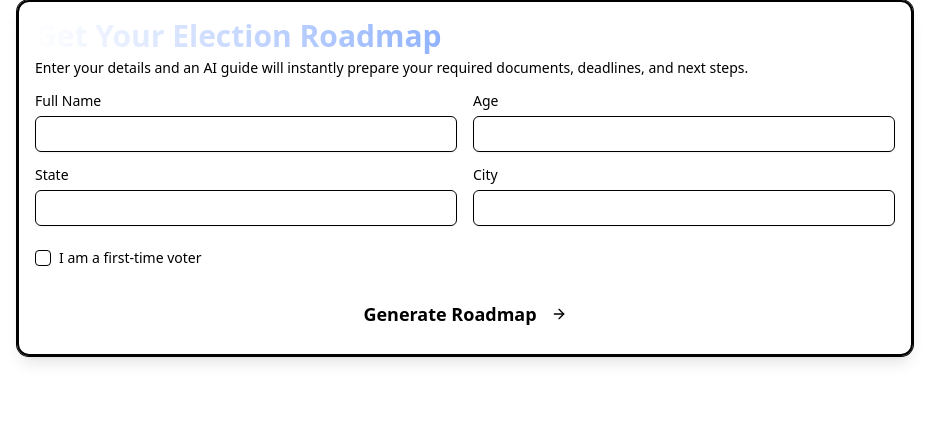
VoterJourney Component › should show validation errors on empty submit
Click the button "Generate Roadmap" at (465, 314), box [35, 290, 895, 338]
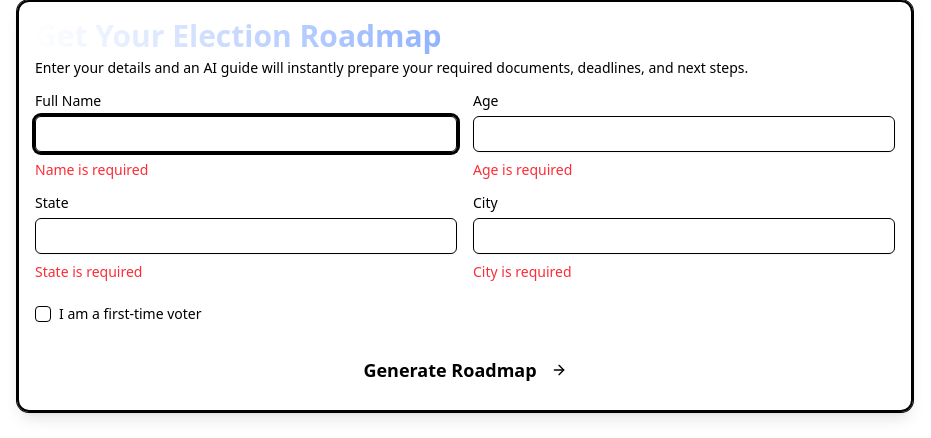
Check: the message "Name is required" is shown, box [35, 160, 148, 179]
